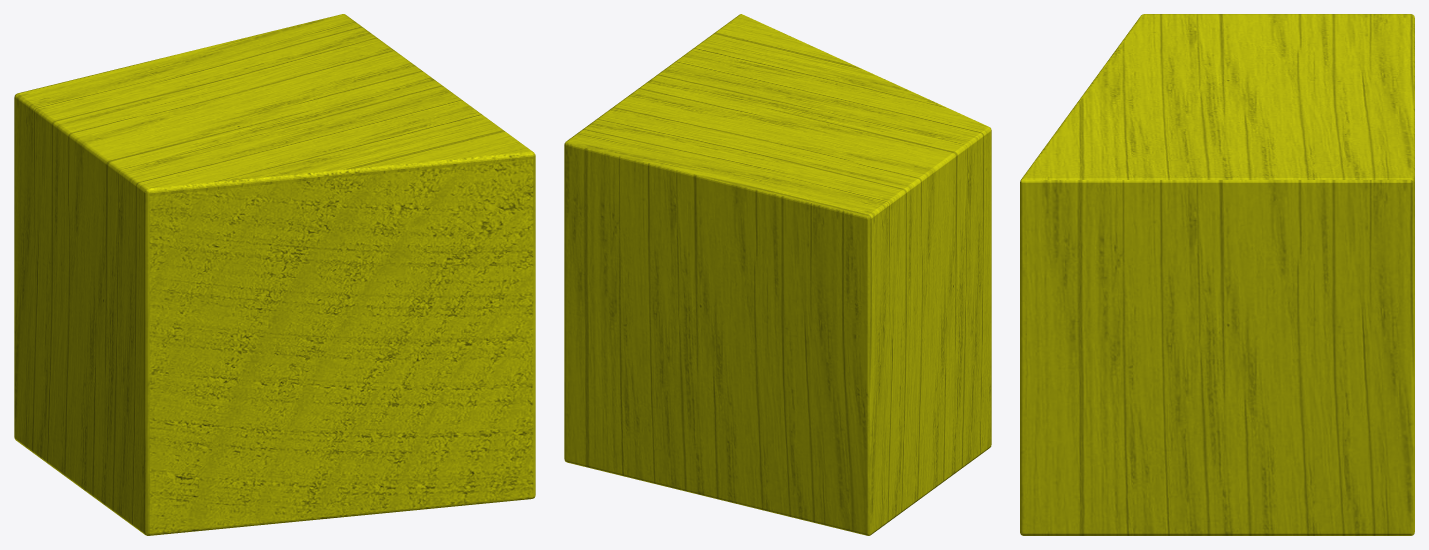
File: cubo1.glb
3 renders of one model, left to right at view 1: azimuth 30°, elevation 25°; view 2: azimuth 150°, elevation 25°; view 3: azimuth 270°, elevation 25°, orthographic. The views are drawn at different scales.
Visible parts, largest first — view 1: Cubo optimizado 1.1; view 2: Cubo optimizado 1.1; view 3: Cubo optimizado 1.1.
Boxes of the visible parts, x1=… form: Cubo optimizado 1.1: x1=14, y1=14, x2=535, y2=535; Cubo optimizado 1.1: x1=564, y1=14, x2=991, y2=535; Cubo optimizado 1.1: x1=1020, y1=14, x2=1414, y2=535.
Size of the model in its own units: 2 by 2 by 2.
Materials: 1 (1 with a texture image).
